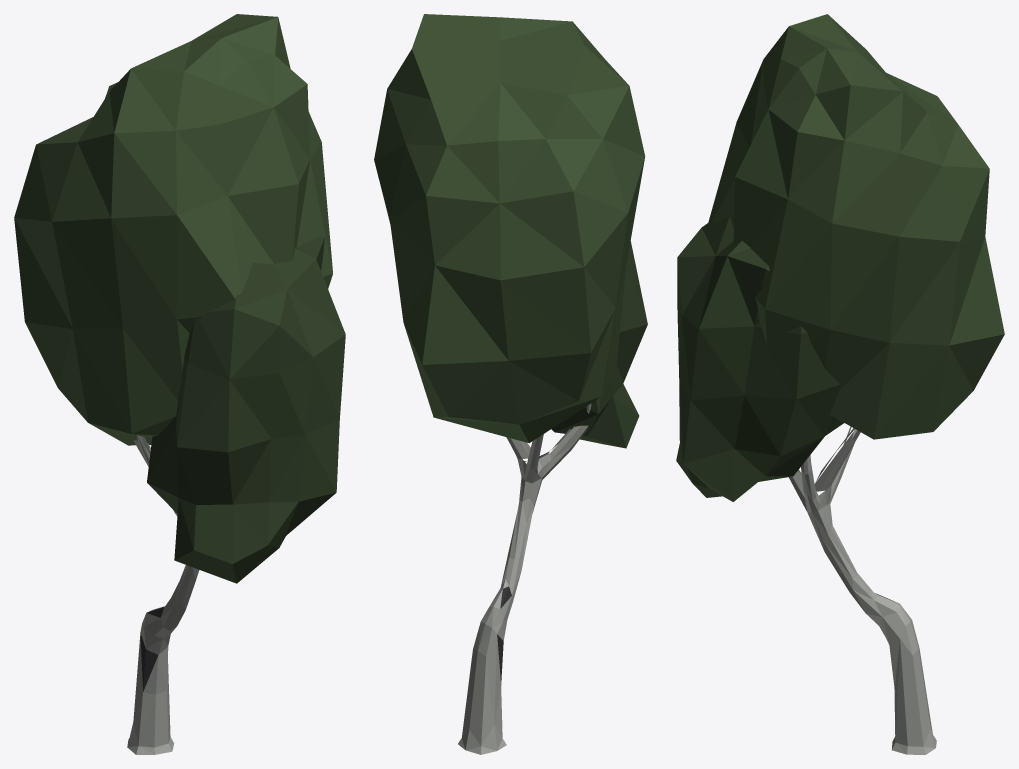
File: BirchTree_2.glb
The picture shows the model from 3 angles, left to right: view 1: azimuth 30°, elevation 25°; view 2: azimuth 150°, elevation 25°; view 3: azimuth 270°, elevation 25°; orthographic projection. The views are drawn at different scales.
Visible parts, largest first — view 1: BirchTree_2_Cube.064; view 2: BirchTree_2_Cube.064; view 3: BirchTree_2_Cube.064.
Part boxes in pixels (x1=…): BirchTree_2_Cube.064: x1=14, y1=14, x2=345, y2=754; BirchTree_2_Cube.064: x1=374, y1=14, x2=647, y2=754; BirchTree_2_Cube.064: x1=676, y1=14, x2=1004, y2=754.
Bounding box in the file's own units: 1.47 × 4.03 × 1.69.
